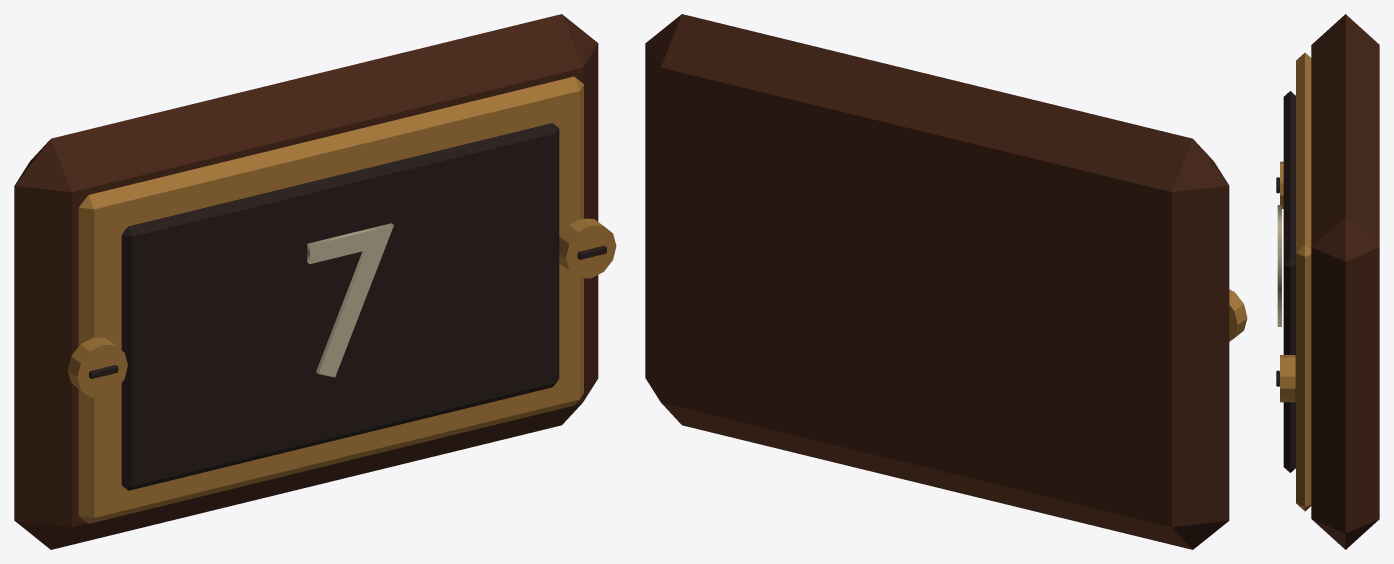
Rendered from RoomPlaque_07.glb.
The picture shows the model from 3 angles, left to right: view 1: azimuth 30°, elevation 25°; view 2: azimuth 150°, elevation 25°; view 3: azimuth 270°, elevation 25°; orthographic projection. The views are drawn at different scales.
Parts seen in each view (by area): view 1: DarkEnamel.006, OakPlaque.006, BrassInset.006, RoomNumber.006, BrassScrew.014, BrassScrew.015; view 2: OakPlaque.006; view 3: OakPlaque.006, BrassInset.006, DarkEnamel.006, BrassScrew.015, RoomNumber.006, BrassScrew.014.
Boxes of the visible parts, x1=… form: DarkEnamel.006: x1=121, y1=123, x2=559, y2=490; OakPlaque.006: x1=14, y1=14, x2=598, y2=549; BrassInset.006: x1=78, y1=76, x2=583, y2=523; RoomNumber.006: x1=307, y1=223, x2=393, y2=377; BrassScrew.014: x1=67, y1=337, x2=127, y2=397; BrassScrew.015: x1=559, y1=218, x2=616, y2=278; OakPlaque.006: x1=645, y1=14, x2=1229, y2=549; OakPlaque.006: x1=1311, y1=14, x2=1379, y2=549; BrassInset.006: x1=1296, y1=52, x2=1311, y2=511; DarkEnamel.006: x1=1283, y1=91, x2=1295, y2=472; BrassScrew.015: x1=1280, y1=355, x2=1295, y2=402; RoomNumber.006: x1=1277, y1=205, x2=1281, y2=326; BrassScrew.014: x1=1280, y1=161, x2=1283, y2=208.
Size of the model in its own units: 1.04 by 0.7 by 0.197.
